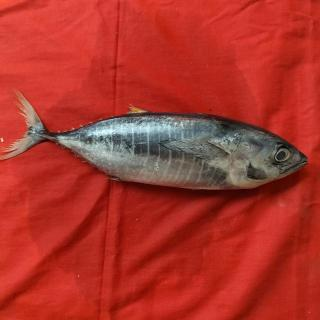Ikan: (1, 85, 313, 208)
